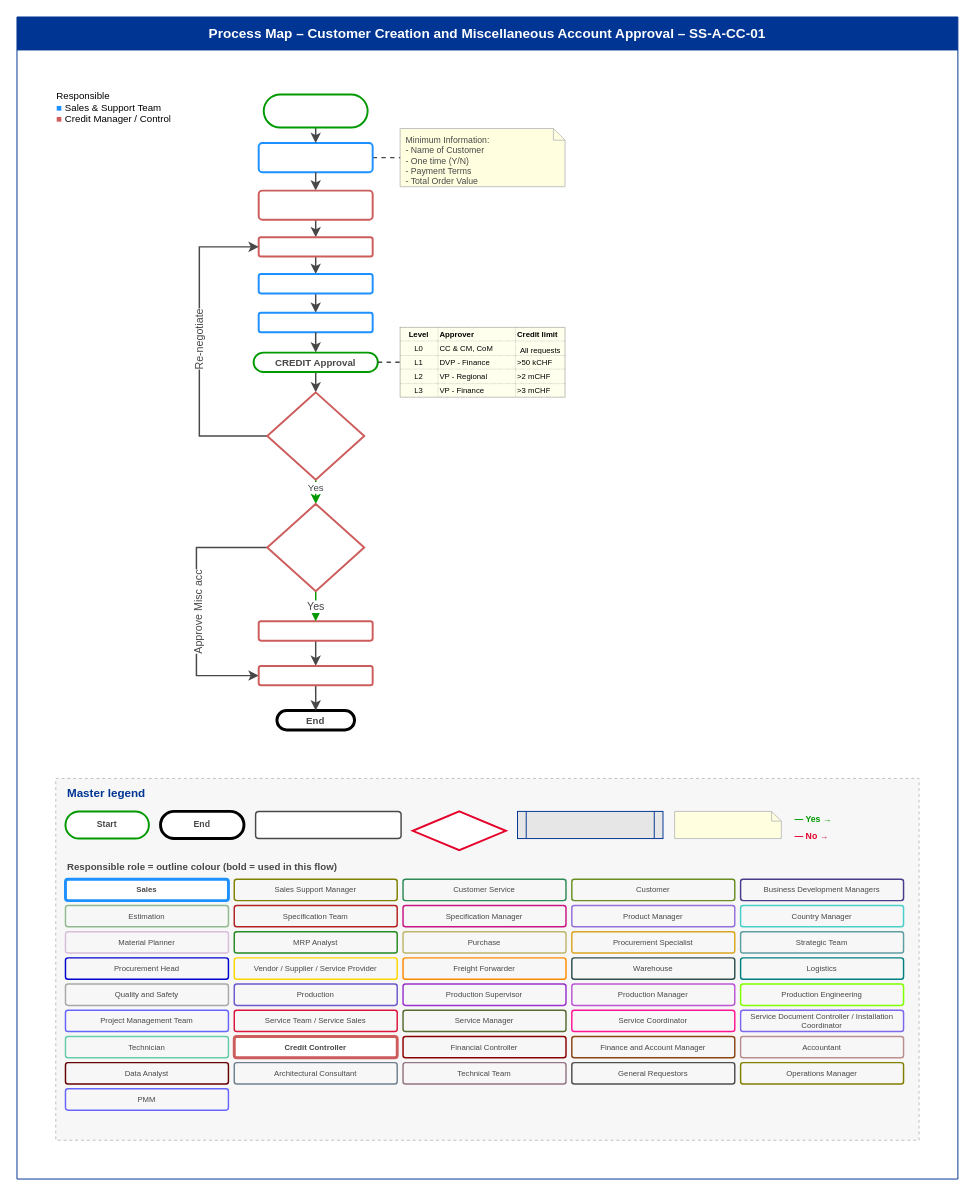
Some shapes in this 975 by 1196 pixel diagram are drawn without their labels. Here are the shapes that lost their labels. From the top down, the centre of each, then its label:
At pixel 315 110: "Start Process".
At pixel 315 157: "Customer Creation Request Submitted".
At pixel 315 204: "Review documents and payment terms".
At pixel 315 246: "Notify Requestor".
At pixel 315 283: "Customer Negotiation".
At pixel 315 322: "Update the outcome".
At pixel 315 435: "Credit Approved?".
At pixel 315 547: "To be Created?".
At pixel 315 630: "Customer Created".
At pixel 315 675: "Update Requestor".
At pixel 327 824: "Activity (outline = role)".
At pixel 458 830: "Decision".
At pixel 590 824: "Linked process (Ref ID)".
At pixel 727 824: "Note / checklist".
